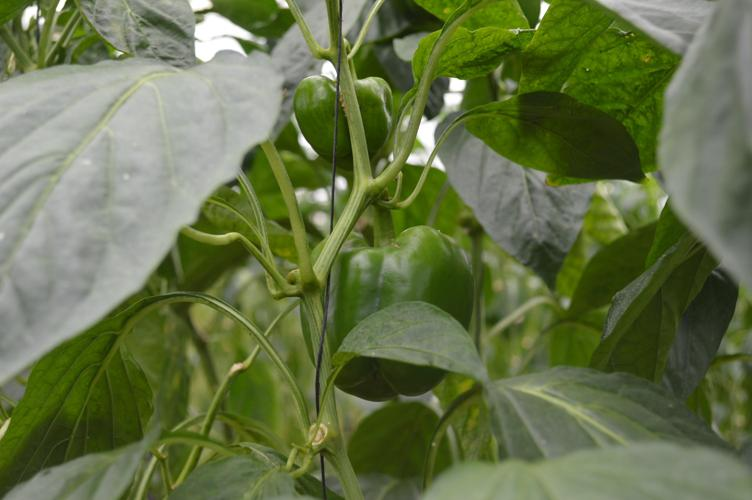BellPepper: (295, 227, 475, 397), (290, 74, 395, 170)
